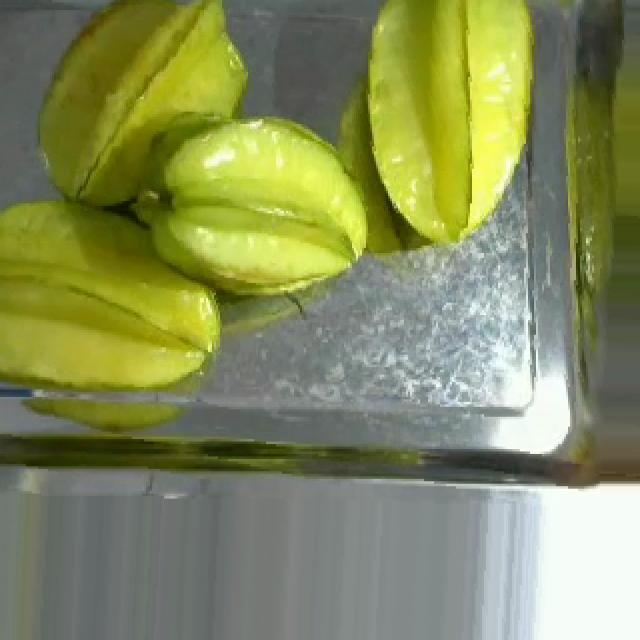fruit: (20, 2, 268, 224), (0, 179, 234, 409), (348, 0, 548, 263), (142, 97, 384, 310), (538, 30, 640, 352)
